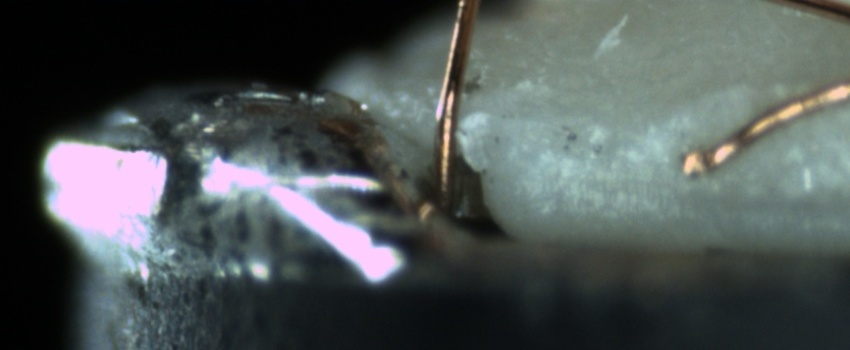DL: (528, 158, 676, 209), (684, 187, 850, 231)
